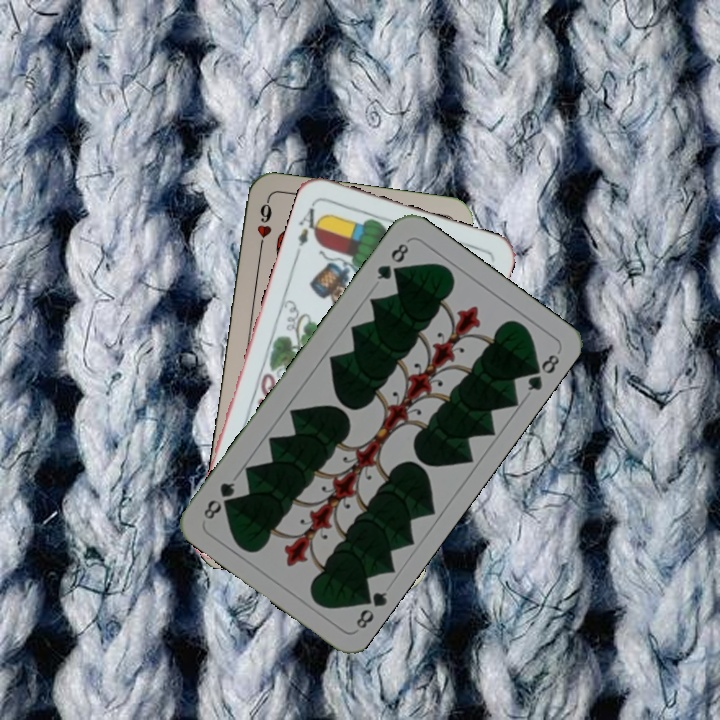EA: (294, 200, 326, 249)
G8: (352, 585, 390, 632), (372, 239, 412, 283)
H9: (252, 196, 274, 255)
